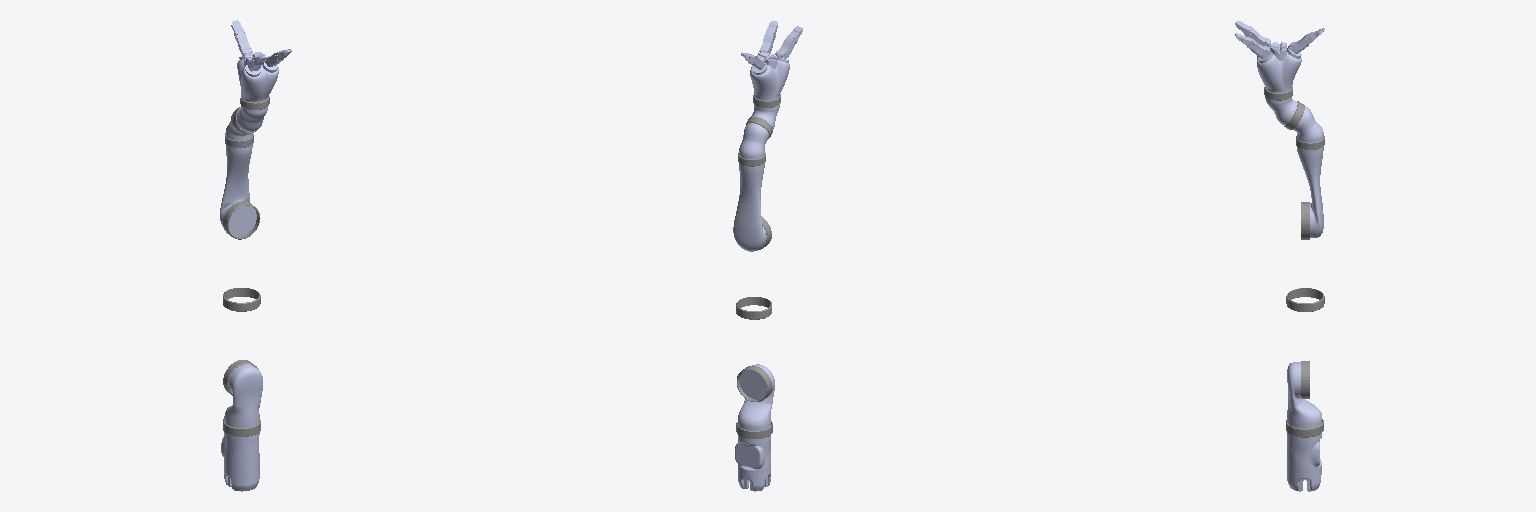
--- Render facts (derived) ---
3 views of the same robot in one strip: view 1: azimuth 30°, elevation 25°; view 2: azimuth 150°, elevation 25°; view 3: azimuth 270°, elevation 25° (orthographic).
Model j2n7s300 with 17 links and 16 joints (8 revolute, 5 continuous, 3 fixed), rooted at world, posed all joints at 0 but 2 set to mid-range because 0 is outside their limits (j2n7s300_joint_2 = 3.14, j2n7s300_joint_4 = 3.14).
Visible links, largest first — view 1: j2n7s300_link_4, j2n7s300_link_1, j2n7s300_link_base, j2n7s300_link_7, j2n7s300_link_6, j2n7s300_link_3; view 2: j2n7s300_link_4, j2n7s300_link_1, j2n7s300_link_base, j2n7s300_link_7, j2n7s300_link_5, j2n7s300_link_3, j2n7s300_link_6; view 3: j2n7s300_link_7, j2n7s300_link_base, j2n7s300_link_1, j2n7s300_link_4, j2n7s300_link_5, j2n7s300_link_6, j2n7s300_link_3.
Link boxes in pixels (<box>): j2n7s300_link_4: <box>220,144,259,239</box>; j2n7s300_link_1: <box>223,364,262,436</box>; j2n7s300_link_base: <box>221,432,259,491</box>; j2n7s300_link_7: <box>237,50,278,109</box>; j2n7s300_link_6: <box>233,106,267,133</box>; j2n7s300_link_3: <box>223,288,260,311</box>; j2n7s300_link_4: <box>733,163,771,251</box>; j2n7s300_link_1: <box>736,364,774,438</box>; j2n7s300_link_base: <box>735,435,770,491</box>; j2n7s300_link_7: <box>750,49,789,107</box>; j2n7s300_link_5: <box>738,123,768,166</box>; j2n7s300_link_3: <box>736,297,771,319</box>; j2n7s300_link_6: <box>746,104,779,138</box>; j2n7s300_link_7: <box>1257,39,1301,100</box>; j2n7s300_link_base: <box>1287,433,1321,491</box>; j2n7s300_link_1: <box>1286,362,1323,437</box>; j2n7s300_link_4: <box>1297,146,1323,239</box>; j2n7s300_link_5: <box>1293,106,1324,149</box>; j2n7s300_link_6: <box>1265,97,1304,129</box>; j2n7s300_link_3: <box>1286,288,1324,311</box>.
Bounding box of the posed robot: 0.0927 × 0.2102 × 1.18 m (x, y, z).
19 mesh visuals loaded from 11 distinct referenced files (9 Collada DAE); not drawn: 2 (reference not matched to a file when rendering).

The robot description file, URDF, robot "j2n7s300":
<?xml version="1.0" ?>
<!-- =================================================================================== -->
<!-- |    This document was autogenerated by xacro from urdf/j2n7s300_standalone.xacro | -->
<!-- |    EDITING THIS FILE BY HAND IS NOT RECOMMENDED                                 | -->
<!-- =================================================================================== -->
<!-- j2n7s300 refers to jaco v2 7DOF non-spherical service 3fingers -->
<robot name="j2n7s300" xmlns:body="http://playerstage.sourceforge.net/gazebo/xmlschema/#body" xmlns:controller="http://playerstage.sourceforge.net/gazebo/xmlschema/#controller" xmlns:gazebo="http://playerstage.sourceforge.net/gazebo/xmlschema/#gz" xmlns:geom="http://playerstage.sourceforge.net/gazebo/xmlschema/#geom" xmlns:interface="http://playerstage.sourceforge.net/gazebo/xmlschema/#interface" xmlns:joint="http://playerstage.sourceforge.net/gazebo/xmlschema/#joint" xmlns:model="http://playerstage.sourceforge.net/gazebo/xmlschema/#model" xmlns:physics="http://playerstage.sourceforge.net/gazebo/xmlschema/#physics" xmlns:renderable="http://playerstage.sourceforge.net/gazebo/xmlschema/#renderable" xmlns:rendering="http://playerstage.sourceforge.net/gazebo/xmlschema/#rendering" xmlns:sensor="http://playerstage.sourceforge.net/gazebo/xmlschema/#sensor" xmlns:xi="http://www.w3.org/2001/XInclude">
  <!-- links      		mesh_no
   base           		0
   shoulder       		1
   arm            		2
   forearm        		3
   wrist          		4
   arm_mico       		5
   arm_half1 (7dof)		6
   arm_half2 (7dof)		7
   wrist_spherical_1  8
   wrist_spherical_2  9

   hand 3 finger  		55
   hand_2finger   		56
   finger_proximal		57
   finger_distal      58
-->
  <!-- links      		mesh_no
   base           		0
   shoulder       		1
   arm            		2
   forearm        		3
   wrist          		4
   arm_mico       		5
   arm_half1 (7dof)		6
   arm_half2 (7dof)		7
   wrist_spherical_1  8
   wrist_spherical_2  9

   hand 3 finger  		55
   hand_2finger   		56
   finger_proximal		57
   finger_distal      58
-->
  <link name="root"/>
  <!-- for gazebo -->
  <link name="world"/>
  <joint name="connect_root_and_world" type="fixed">
    <child link="root"/>
    <parent link="world"/>
    <origin rpy="0 0 0" xyz="0 0 0"/>
  </joint>
  <!-- ros_control plugin -->
  <gazebo>
    <plugin filename="libgazebo_ros_control.so" name="gazebo_ros_control">
      <robotNamespace>j2n7s300</robotNamespace>
      <robotSimType>gazebo_ros_control/DefaultRobotHWSim</robotSimType>
      <legacyModeNS>true</legacyModeNS>
    </plugin>
  </gazebo>
  <link name="j2n7s300_link_base">
    <visual>
      <geometry>
        <mesh filename="package://kinova_description/meshes/base.dae"/>
      </geometry>
      <material name="carbon_fiber">
        <color rgba="0.792156862745098 0.819607843137255 0.933333333333333 1"/>
      </material>
    </visual>
    <collision>
      <geometry>
        <mesh filename="package://kinova_description/meshes/base.dae"/>
      </geometry>
    </collision>
    <inertial>
      <mass value="0.46784"/>
      <origin rpy="0 0 0" xyz="0 0 0.1255"/>
      <inertia ixx="0.000951270861568" ixy="0" ixz="0" iyy="0.000951270861568" iyz="0" izz="0.00037427200000000004"/>
    </inertial>
  </link>
  <joint name="j2n7s300_joint_base" type="fixed">
    <parent link="root"/>
    <child link="j2n7s300_link_base"/>
    <axis xyz="0 0 0"/>
    <origin rpy="0 0 0" xyz="0 0 0"/>
    <dynamics damping="0.0" friction="0.0"/>
  </joint>
  <link name="j2n7s300_link_1">
    <visual>
      <geometry>
        <mesh filename="package://kinova_description/meshes/shoulder.dae"/>
      </geometry>
      <material name="carbon_fiber">
        <color rgba="0.792156862745098 0.819607843137255 0.933333333333333 1"/>
      </material>
    </visual>
    <visual>
      <geometry>
        <mesh filename="package://kinova_description/meshes/ring_big.dae"/>
      </geometry>
    </visual>
    <collision>
      <geometry>
        <mesh filename="package://kinova_description/meshes/shoulder.dae"/>
      </geometry>
    </collision>
    <inertial>
      <mass value="0.7477"/>
      <origin xyz="0 -0.002 -0.0605"/>
      <inertia ixx="0.0015203172520400004" ixy="0" ixz="0" iyy="0.0015203172520400004" iyz="0" izz="0.00059816"/>
    </inertial>
  </link>
  <joint name="j2n7s300_joint_1" type="continuous">
    <parent link="j2n7s300_link_base"/>
    <child link="j2n7s300_link_1"/>
    <axis xyz="0 0 1"/>
    <limit effort="40" velocity="0.6283185307179586"/>
    <origin rpy="0 3.141592653589793 0" xyz="0 0 0.15675"/>
    <dynamics damping="0.0" friction="0.0"/>
  </joint>
  <transmission name="j2n7s300_joint_1_trans">
    <type>transmission_interface/SimpleTransmission</type>
    <joint name="j2n7s300_joint_1">
      <hardwareInterface>hardware_interface/EffortJointInterface</hardwareInterface>
    </joint>
    <actuator name="j2n7s300_joint_1_actuator">
      <hardwareInterface>hardware_interface/EffortJointInterface</hardwareInterface>
      <mechanicalReduction>160</mechanicalReduction>
    </actuator>
  </transmission>
  <!--For torque sensing in simulation-->
  <gazebo reference="j2n7s300_joint_1">
    <provideFeedback>true</provideFeedback>
  </gazebo>
  <gazebo>
    <plugin filename="libgazebo_ros_ft_sensor.so" name="ft_sensor">
      <updateRate>30.0</updateRate>
      <topicName>j2n7s300_joint_1_ft_sensor_topic</topicName>
      <jointName>j2n7s300_joint_1</jointName>
    </plugin>
  </gazebo>
  <link name="j2n7s300_link_2">
    <visual>
      <geometry>
        <mesh filename="package://kinova_description/meshes/arm_half_1.dae"/>
      </geometry>
      <material name="carbon_fiber">
        <color rgba="0.792156862745098 0.819607843137255 0.933333333333333 1"/>
      </material>
    </visual>
    <visual>
      <geometry>
        <mesh filename="package://kinova_description/meshes/ring_big.dae"/>
      </geometry>
    </visual>
    <collision>
      <geometry>
        <mesh filename="package://kinova_description/meshes/arm_half_1.dae"/>
      </geometry>
    </collision>
    <inertial>
      <mass value="0.8447"/>
      <origin xyz="0 -0.103563213 0"/>
      <inertia ixx="0.00247073761701" ixy="0" ixz="0" iyy="0.000380115" iyz="0" izz="0.00247073761701"/>
    </inertial>
  </link>
  <joint name="j2n7s300_joint_2" type="revolute">
    <parent link="j2n7s300_link_1"/>
    <child link="j2n7s300_link_2"/>
    <axis xyz="0 0 1"/>
    <limit effort="80" lower="0.5235987755982988" upper="5.759586531581287" velocity="0.6283185307179586"/>
    <origin rpy="-1.5707963267948966 0 3.141592653589793" xyz="0 0.0016 -0.11875"/>
    <dynamics damping="0.0" friction="0.0"/>
  </joint>
  <transmission name="j2n7s300_joint_2_trans">
    <type>transmission_interface/SimpleTransmission</type>
    <joint name="j2n7s300_joint_2">
      <hardwareInterface>hardware_interface/EffortJointInterface</hardwareInterface>
    </joint>
    <actuator name="j2n7s300_joint_2_actuator">
      <hardwareInterface>hardware_interface/EffortJointInterface</hardwareInterface>
      <mechanicalReduction>160</mechanicalReduction>
    </actuator>
  </transmission>
  <!--For torque sensing in simulation-->
  <gazebo reference="j2n7s300_joint_2">
    <provideFeedback>true</provideFeedback>
  </gazebo>
  <gazebo>
    <plugin filename="libgazebo_ros_ft_sensor.so" name="ft_sensor">
      <updateRate>30.0</updateRate>
      <topicName>j2n7s300_joint_2_ft_sensor_topic</topicName>
      <jointName>j2n7s300_joint_2</jointName>
    </plugin>
  </gazebo>
  <link name="j2n7s300_link_3">
    <visual>
      <geometry>
        <mesh filename="package://kinova_description/meshes/arm_half_2.dae"/>
      </geometry>
      <material name="carbon_fiber">
        <color rgba="0.792156862745098 0.819607843137255 0.933333333333333 1"/>
      </material>
    </visual>
    <visual>
      <geometry>
        <mesh filename="package://kinova_description/meshes/ring_big.dae"/>
      </geometry>
    </visual>
    <collision>
      <geometry>
        <mesh filename="package://kinova_description/meshes/arm_half_2.dae"/>
      </geometry>
    </collision>
    <inertial>
      <mass value="0.8447"/>
      <origin xyz="0 0 -0.1022447445"/>
      <inertia ixx="0.00247073761701" ixy="0" ixz="0" iyy="0.00247073761701" iyz="0" izz="0.000380115"/>
    </inertial>
  </link>
  <joint name="j2n7s300_joint_3" type="continuous">
    <parent link="j2n7s300_link_2"/>
    <child link="j2n7s300_link_3"/>
    <axis xyz="0 0 1"/>
    <limit effort="40" velocity="0.6283185307179586"/>
    <origin rpy="1.5707963267948966 0 3.141592653589793" xyz="0 -0.205 0"/>
    <dynamics damping="0.0" friction="0.0"/>
  </joint>
  <transmission name="j2n7s300_joint_3_trans">
    <type>transmission_interface/SimpleTransmission</type>
    <joint name="j2n7s300_joint_3">
      <hardwareInterface>hardware_interface/EffortJointInterface</hardwareInterface>
    </joint>
    <actuator name="j2n7s300_joint_3_actuator">
      <hardwareInterface>hardware_interface/EffortJointInterface</hardwareInterface>
      <mechanicalReduction>160</mechanicalReduction>
    </actuator>
  </transmission>
  <!--For torque sensing in simulation-->
  <gazebo reference="j2n7s300_joint_3">
    <provideFeedback>true</provideFeedback>
  </gazebo>
  <gazebo>
    <plugin filename="libgazebo_ros_ft_sensor.so" name="ft_sensor">
      <updateRate>30.0</updateRate>
      <topicName>j2n7s300_joint_3_ft_sensor_topic</topicName>
      <jointName>j2n7s300_joint_3</jointName>
    </plugin>
  </gazebo>
  <link name="j2n7s300_link_4">
    <visual>
      <geometry>
        <mesh filename="package://kinova_description/meshes/forearm.dae"/>
      </geometry>
      <material name="carbon_fiber">
        <color rgba="0.792156862745098 0.819607843137255 0.933333333333333 1"/>
      </material>
    </visual>
    <visual>
      <geometry>
        <mesh filename="package://kinova_description/meshes/ring_big.dae"/>
      </geometry>
    </visual>
    <collision>
      <geometry>
        <mesh filename="package://kinova_description/meshes/forearm.dae"/>
      </geometry>
    </collision>
    <inertial>
      <mass value="0.6763"/>
      <origin xyz="0 0.081 -0.0086"/>
      <inertia ixx="0.0014202243190800001" ixy="0" ixz="0" iyy="0.000304335" iyz="0" izz="0.0014202243190800001"/>
    </inertial>
  </link>
  <joint name="j2n7s300_joint_4" type="revolute">
    <parent link="j2n7s300_link_3"/>
    <child link="j2n7s300_link_4"/>
    <axis xyz="0 0 1"/>
    <limit effort="40" lower="0.5235987755982988" upper="5.759586531581287" velocity="0.6283185307179586"/>
    <origin rpy="1.5707963267948966 0 3.141592653589793" xyz="0 0 -0.205"/>
    <dynamics damping="0.0" friction="0.0"/>
  </joint>
  <transmission name="j2n7s300_joint_4_trans">
    <type>transmission_interface/SimpleTransmission</type>
    <joint name="j2n7s300_joint_4">
      <hardwareInterface>hardware_interface/EffortJointInterface</hardwareInterface>
    </joint>
    <actuator name="j2n7s300_joint_4_actuator">
      <hardwareInterface>hardware_interface/EffortJointInterface</hardwareInterface>
      <mechanicalReduction>160</mechanicalReduction>
    </actuator>
  </transmission>
  <!--For torque sensing in simulation-->
  <gazebo reference="j2n7s300_joint_4">
    <provideFeedback>true</provideFeedback>
  </gazebo>
  <gazebo>
    <plugin filename="libgazebo_ros_ft_sensor.so" name="ft_sensor">
      <updateRate>30.0</updateRate>
      <topicName>j2n7s300_joint_4_ft_sensor_topic</topicName>
      <jointName>j2n7s300_joint_4</jointName>
    </plugin>
  </gazebo>
  <link name="j2n7s300_link_5">
    <visual>
      <geometry>
        <mesh filename="package://kinova_description/meshes/wrist.dae"/>
      </geometry>
      <material name="carbon_fiber">
        <color rgba="0.792156862745098 0.819607843137255 0.933333333333333 1"/>
      </material>
    </visual>
    <visual>
      <geometry>
        <mesh filename="package://kinova_description/meshes/ring_small.dae"/>
      </geometry>
    </visual>
    <collision>
      <geometry>
        <mesh filename="package://kinova_description/meshes/wrist.dae"/>
      </geometry>
    </collision>
    <inertial>
      <mass value="0.426367"/>
      <origin xyz="0 -0.037 -0.0642"/>
      <inertia ixx="7.734969059999999e-05" ixy="0" ixz="0" iyy="7.734969059999999e-05" iyz="0" izz="0.0001428"/>
    </inertial>
  </link>
  <joint name="j2n7s300_joint_5" type="continuous">
    <parent link="j2n7s300_link_4"/>
    <child link="j2n7s300_link_5"/>
    <axis xyz="0 0 1"/>
    <limit effort="20" velocity="0.8377580409572781"/>
    <origin rpy="-1.5707963267948966 0 3.141592653589793" xyz="0 0.2073 -0.0114"/>
    <dynamics damping="0.0" friction="0.0"/>
  </joint>
  <transmission name="j2n7s300_joint_5_trans">
    <type>transmission_interface/SimpleTransmission</type>
    <joint name="j2n7s300_joint_5">
      <hardwareInterface>hardware_interface/EffortJointInterface</hardwareInterface>
    </joint>
    <actuator name="j2n7s300_joint_5_actuator">
      <hardwareInterface>hardware_interface/EffortJointInterface</hardwareInterface>
      <mechanicalReduction>160</mechanicalReduction>
    </actuator>
  </transmission>
  <!--For torque sensing in simulation-->
  <gazebo reference="j2n7s300_joint_5">
    <provideFeedback>true</provideFeedback>
  </gazebo>
  <gazebo>
    <plugin filename="libgazebo_ros_ft_sensor.so" name="ft_sensor">
      <updateRate>30.0</updateRate>
      <topicName>j2n7s300_joint_5_ft_sensor_topic</topicName>
      <jointName>j2n7s300_joint_5</jointName>
    </plugin>
  </gazebo>
  <link name="j2n7s300_link_6">
    <visual>
      <geometry>
        <mesh filename="package://kinova_description/meshes/wrist.dae"/>
      </geometry>
      <material name="carbon_fiber">
        <color rgba="0.792156862745098 0.819607843137255 0.933333333333333 1"/>
      </material>
    </visual>
    <visual>
      <geometry>
        <mesh filename="package://kinova_description/meshes/ring_small.dae"/>
      </geometry>
    </visual>
    <collision>
      <geometry>
        <mesh filename="package://kinova_description/meshes/wrist.dae"/>
      </geometry>
    </collision>
    <inertial>
      <mass value="0.426367"/>
      <origin xyz="0 -0.037 -0.0642"/>
      <inertia ixx="7.734969059999999e-05" ixy="0" ixz="0" iyy="7.734969059999999e-05" iyz="0" izz="0.0001428"/>
    </inertial>
  </link>
  <joint name="j2n7s300_joint_6" type="continuous">
    <parent link="j2n7s300_link_5"/>
    <child link="j2n7s300_link_6"/>
    <axis xyz="0 0 1"/>
    <limit effort="20" velocity="0.8377580409572781"/>
    <origin rpy="1.0471975511965976 0 3.141592653589793" xyz="0 -0.03703 -0.06414"/>
    <dynamics damping="0.0" friction="0.0"/>
  </joint>
  <transmission name="j2n7s300_joint_6_trans">
    <type>transmission_interface/SimpleTransmission</type>
    <joint name="j2n7s300_joint_6">
      <hardwareInterface>hardware_interface/EffortJointInterface</hardwareInterface>
    </joint>
    <actuator name="j2n7s300_joint_6_actuator">
      <hardwareInterface>hardware_interface/EffortJointInterface</hardwareInterface>
      <mechanicalReduction>160</mechanicalReduction>
    </actuator>
  </transmission>
  <!--For torque sensing in simulation-->
  <gazebo reference="j2n7s300_joint_6">
    <provideFeedback>true</provideFeedback>
  </gazebo>
  <gazebo>
    <plugin filename="libgazebo_ros_ft_sensor.so" name="ft_sensor">
      <updateRate>30.0</updateRate>
      <topicName>j2n7s300_joint_6_ft_sensor_topic</topicName>
      <jointName>j2n7s300_joint_6</jointName>
    </plugin>
  </gazebo>
  <link name="j2n7s300_link_7">
    <visual>
      <geometry>
        <mesh filename="package://kinova_description/meshes/hand_3finger.dae"/>
      </geometry>
      <material name="carbon_fiber">
        <color rgba="0.792156862745098 0.819607843137255 0.933333333333333 1"/>
      </material>
    </visual>
    <visual>
      <geometry>
        <mesh filename="package://kinova_description/meshes/ring_small.dae"/>
      </geometry>
    </visual>
    <collision>
      <geometry>
        <mesh filename="package://kinova_description/meshes/hand_3finger.dae"/>
      </geometry>
    </collision>
    <inertial>
      <mass value="0.99"/>
      <origin xyz="0 0 -0.06"/>
      <inertia ixx="0.00034532361869999995" ixy="0" ixz="0" iyy="0.00034532361869999995" iyz="0" izz="0.0005815999999999999"/>
    </inertial>
  </link>
  <joint name="j2n7s300_joint_7" type="continuous">
    <parent link="j2n7s300_link_6"/>
    <child link="j2n7s300_link_7"/>
    <axis xyz="0 0 1"/>
    <limit effort="20" velocity="0.8377580409572781"/>
    <origin rpy="1.0471975511965976 0 3.141592653589793" xyz="0 -0.03703 -0.06414"/>
    <dynamics damping="0.0" friction="0.0"/>
  </joint>
  <transmission name="j2n7s300_joint_7_trans">
    <type>transmission_interface/SimpleTransmission</type>
    <joint name="j2n7s300_joint_7">
      <hardwareInterface>hardware_interface/EffortJointInterface</hardwareInterface>
    </joint>
    <actuator name="j2n7s300_joint_7_actuator">
      <hardwareInterface>hardware_interface/EffortJointInterface</hardwareInterface>
      <mechanicalReduction>160</mechanicalReduction>
    </actuator>
  </transmission>
  <!--For torque sensing in simulation-->
  <gazebo reference="j2n7s300_joint_7">
    <provideFeedback>true</provideFeedback>
  </gazebo>
  <gazebo>
    <plugin filename="libgazebo_ros_ft_sensor.so" name="ft_sensor">
      <updateRate>30.0</updateRate>
      <topicName>j2n7s300_joint_7_ft_sensor_topic</topicName>
      <jointName>j2n7s300_joint_7</jointName>
    </plugin>
  </gazebo>
  <link name="j2n7s300_end_effector"/>
  <joint name="j2n7s300_joint_end_effector" type="fixed">
    <parent link="j2n7s300_link_7"/>
    <child link="j2n7s300_end_effector"/>
    <axis xyz="0 0 0"/>
    <origin rpy="3.141592653589793 0 1.5707963267948966" xyz="0 0 -0.1600"/>
  </joint>
  <link name="j2n7s300_link_finger_1">
    <visual>
      <geometry>
        <mesh filename="package://kinova_description/meshes/finger_proximal.dae"/>
      </geometry>
      <material name="carbon_fiber">
        <color rgba="0.792156862745098 0.819607843137255 0.933333333333333 1"/>
      </material>
    </visual>
    <collision>
      <geometry>
        <mesh filename="package://kinova_description/meshes/finger_proximal.dae"/>
      </geometry>
    </collision>
    <inertial>
      <mass value="0.01"/>
      <origin xyz="0.022 0 0"/>
      <inertia ixx="7.8999684e-07" ixy="0" ixz="0" iyy="7.8999684e-07" iyz="0" izz="8e-08"/>
    </inertial>
  </link>
  <joint name="j2n7s300_joint_finger_1" type="revolute">
    <parent link="j2n7s300_link_7"/>
    <child link="j2n7s300_link_finger_1"/>
    <axis xyz="0 0 1"/>
    <origin rpy="-1.7047873384941834 0.6476144647144773 1.67317415161155" xyz="0.00279 0.03126 -0.11467"/>
    <limit effort="2" lower="0" upper="1.51" velocity="1"/>
  </joint>
  <transmission name="j2n7s300_joint_finger_1_trans">
    <type>transmission_interface/SimpleTransmission</type>
    <joint name="j2n7s300_joint_finger_1">
      <hardwareInterface>hardware_interface/EffortJointInterface</hardwareInterface>
    </joint>
    <actuator name="j2n7s300_joint_finger_1_actuator">
      <hardwareInterface>hardware_interface/EffortJointInterface</hardwareInterface>
      <mechanicalReduction>1</mechanicalReduction>
    </actuator>
  </transmission>
  <link name="j2n7s300_link_finger_tip_1">
    <visual>
      <geometry>
        <mesh filename="package://kinova_description/meshes/finger_distal.dae"/>
      </geometry>
      <material name="carbon_fiber">
        <color rgba="0.792156862745098 0.819607843137255 0.933333333333333 1"/>
      </material>
    </visual>
    <collision>
      <geometry>
        <mesh filename="package://kinova_description/meshes/finger_distal.dae"/>
      </geometry>
    </collision>
    <inertial>
      <mass value="0.01"/>
      <origin xyz="0.022 0 0"/>
      <inertia ixx="7.8999684e-07" ixy="0" ixz="0" iyy="7.8999684e-07" iyz="0" izz="8e-08"/>
    </inertial>
  </link>
  <joint name="j2n7s300_joint_finger_tip_1" type="revolute">
    <parent link="j2n7s300_link_finger_1"/>
    <child link="j2n7s300_link_finger_tip_1"/>
    <axis xyz="0 0 1"/>
    <origin rpy="0 0 0" xyz="0.044 -0.003 0"/>
    <limit effort="2" lower="0" upper="2" velocity="1"/>
  </joint>
  <transmission name="j2n7s300_joint_finger_tip_1_trans">
    <type>transmission_interface/SimpleTransmission</type>
    <joint name="j2n7s300_joint_finger_tip_1">
      <hardwareInterface>hardware_interface/EffortJointInterface</hardwareInterface>
    </joint>
    <actuator name="j2n7s300_joint_finger_tip_1_actuator">
      <hardwareInterface>hardware_interface/EffortJointInterface</hardwareInterface>
      <mechanicalReduction>1</mechanicalReduction>
    </actuator>
  </transmission>
  <link name="j2n7s300_link_finger_2">
    <visual>
      <geometry>
        <mesh filename="package://kinova_description/meshes/finger_proximal.dae"/>
      </geometry>
      <material name="carbon_fiber">
        <color rgba="0.792156862745098 0.819607843137255 0.933333333333333 1"/>
      </material>
    </visual>
    <collision>
      <geometry>
        <mesh filename="package://kinova_description/meshes/finger_proximal.dae"/>
      </geometry>
    </collision>
    <inertial>
      <mass value="0.01"/>
      <origin xyz="0.022 0 0"/>
      <inertia ixx="7.8999684e-07" ixy="0" ixz="0" iyy="7.8999684e-07" iyz="0" izz="8e-08"/>
    </inertial>
  </link>
  <joint name="j2n7s300_joint_finger_2" type="revolute">
    <parent link="j2n7s300_link_7"/>
    <child link="j2n7s300_link_finger_2"/>
    <axis xyz="0 0 1"/>
    <origin rpy="-1.570796327 .649262481663582 -1.38614049188413" xyz="0.02226 -0.02707 -0.11482"/>
    <limit effort="2" lower="0" upper="1.51" velocity="1"/>
  </joint>
  <transmission name="j2n7s300_joint_finger_2_trans">
    <type>transmission_interface/SimpleTransmission</type>
    <joint name="j2n7s300_joint_finger_2">
      <hardwareInterface>hardware_interface/EffortJointInterface</hardwareInterface>
    </joint>
    <actuator name="j2n7s300_joint_finger_2_actuator">
      <hardwareInterface>hardware_interface/EffortJointInterface</hardwareInterface>
      <mechanicalReduction>1</mechanicalReduction>
    </actuator>
  </transmission>
  <link name="j2n7s300_link_finger_tip_2">
    <visual>
      <geometry>
        <mesh filename="package://kinova_description/meshes/finger_distal.dae"/>
      </geometry>
      <material name="carbon_fiber">
        <color rgba="0.792156862745098 0.819607843137255 0.933333333333333 1"/>
      </material>
    </visual>
    <collision>
      <geometry>
        <mesh filename="package://kinova_description/meshes/finger_distal.dae"/>
      </geometry>
    </collision>
    <inertial>
      <mass value="0.01"/>
      <origin xyz="0.022 0 0"/>
      <inertia ixx="7.8999684e-07" ixy="0" ixz="0" iyy="7.8999684e-07" iyz="0" izz="8e-08"/>
    </inertial>
  </link>
  <joint name="j2n7s300_joint_finger_tip_2" type="revolute">
    <parent link="j2n7s300_link_finger_2"/>
    <child link="j2n7s300_link_finger_tip_2"/>
    <axis xyz="0 0 1"/>
    <origin rpy="0 0 0" xyz="0.044 -0.003 0"/>
    <limit effort="2" lower="0" upper="2" velocity="1"/>
  </joint>
  <transmission name="j2n7s300_joint_finger_tip_2_trans">
    <type>transmission_interface/SimpleTransmission</type>
    <joint name="j2n7s300_joint_finger_tip_2">
      <hardwareInterface>hardware_interface/EffortJointInterface</hardwareInterface>
    </joint>
    <actuator name="j2n7s300_joint_finger_tip_2_actuator">
      <hardwareInterface>hardware_interface/EffortJointInterface</hardwareInterface>
      <mechanicalReduction>1</mechanicalReduction>
    </actuator>
  </transmission>
  <link name="j2n7s300_link_finger_3">
    <visual>
      <geometry>
        <mesh filename="package://kinova_description/meshes/finger_proximal.dae"/>
      </geometry>
      <material name="carbon_fiber">
        <color rgba="0.792156862745098 0.819607843137255 0.933333333333333 1"/>
      </material>
    </visual>
    <collision>
      <geometry>
        <mesh filename="package://kinova_description/meshes/finger_proximal.dae"/>
      </geometry>
    </collision>
    <inertial>
      <mass value="0.01"/>
      <origin xyz="0.022 0 0"/>
      <inertia ixx="7.8999684e-07" ixy="0" ixz="0" iyy="7.8999684e-07" iyz="0" izz="8e-08"/>
    </inertial>
  </link>
  <joint name="j2n7s300_joint_finger_3" type="revolute">
    <parent link="j2n7s300_link_7"/>
    <child link="j2n7s300_link_finger_3"/>
    <axis xyz="0 0 1"/>
    <origin rpy="-1.570796327 .649262481663582 -1.75545216211587" xyz="-0.02226 -0.02707 -0.11482"/>
    <limit effort="2" lower="0" upper="1.51" velocity="1"/>
  </joint>
  <transmission name="j2n7s300_joint_finger_3_trans">
    <type>transmission_interface/SimpleTransmission</type>
    <joint name="j2n7s300_joint_finger_3">
      <hardwareInterface>hardware_interface/EffortJointInterface</hardwareInterface>
    </joint>
    <actuator name="j2n7s300_joint_finger_3_actuator">
      <hardwareInterface>hardware_interface/EffortJointInterface</hardwareInterface>
      <mechanicalReduction>1</mechanicalReduction>
    </actuator>
  </transmission>
  <link name="j2n7s300_link_finger_tip_3">
    <visual>
      <geometry>
        <mesh filename="package://kinova_description/meshes/finger_distal.dae"/>
      </geometry>
      <material name="carbon_fiber">
        <color rgba="0.792156862745098 0.819607843137255 0.933333333333333 1"/>
      </material>
    </visual>
    <collision>
      <geometry>
        <mesh filename="package://kinova_description/meshes/finger_distal.dae"/>
      </geometry>
    </collision>
    <inertial>
      <mass value="0.01"/>
      <origin xyz="0.022 0 0"/>
      <inertia ixx="7.8999684e-07" ixy="0" ixz="0" iyy="7.8999684e-07" iyz="0" izz="8e-08"/>
    </inertial>
  </link>
  <joint name="j2n7s300_joint_finger_tip_3" type="revolute">
    <parent link="j2n7s300_link_finger_3"/>
    <child link="j2n7s300_link_finger_tip_3"/>
    <axis xyz="0 0 1"/>
    <origin rpy="0 0 0" xyz="0.044 -0.003 0"/>
    <limit effort="2" lower="0" upper="2" velocity="1"/>
  </joint>
  <transmission name="j2n7s300_joint_finger_tip_3_trans">
    <type>transmission_interface/SimpleTransmission</type>
    <joint name="j2n7s300_joint_finger_tip_3">
      <hardwareInterface>hardware_interface/EffortJointInterface</hardwareInterface>
    </joint>
    <actuator name="j2n7s300_joint_finger_tip_3_actuator">
      <hardwareInterface>hardware_interface/EffortJointInterface</hardwareInterface>
      <mechanicalReduction>1</mechanicalReduction>
    </actuator>
  </transmission>
</robot>
